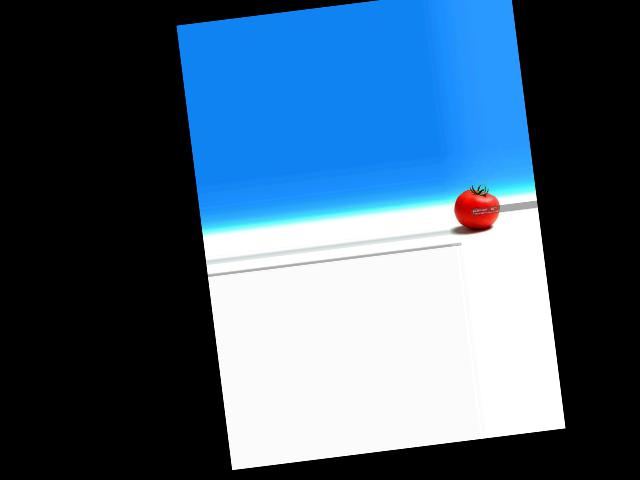tomato: (452, 186, 502, 230)
